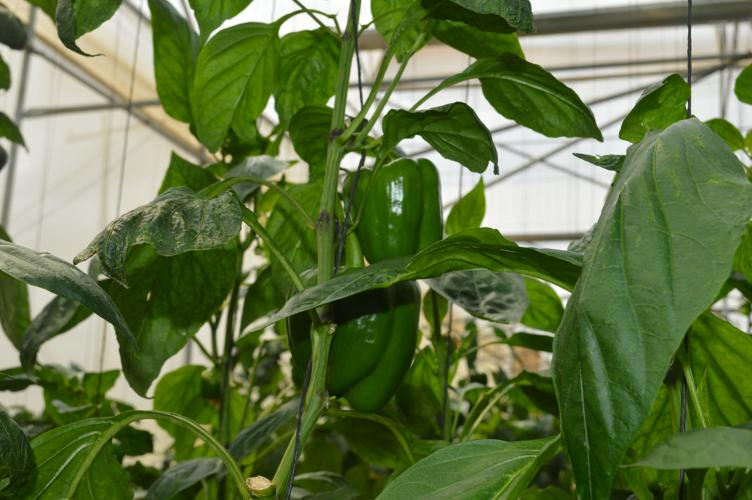BellPepper: (287, 266, 420, 415), (342, 159, 444, 264)
